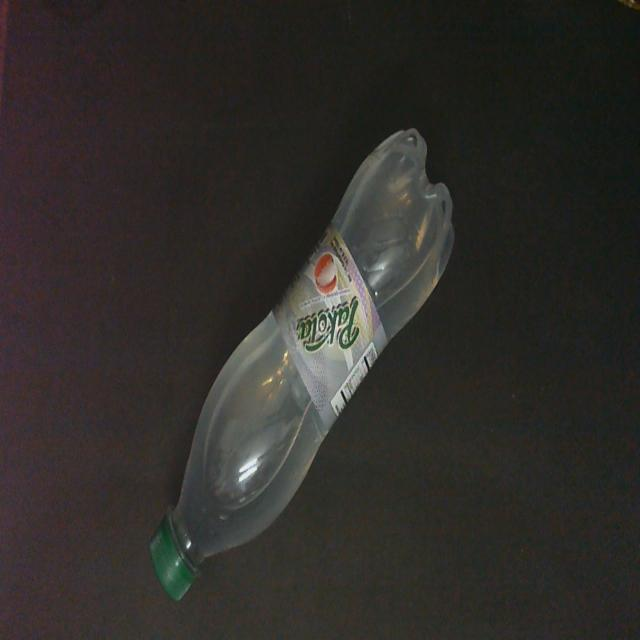non-defect: (147, 124, 458, 606)
